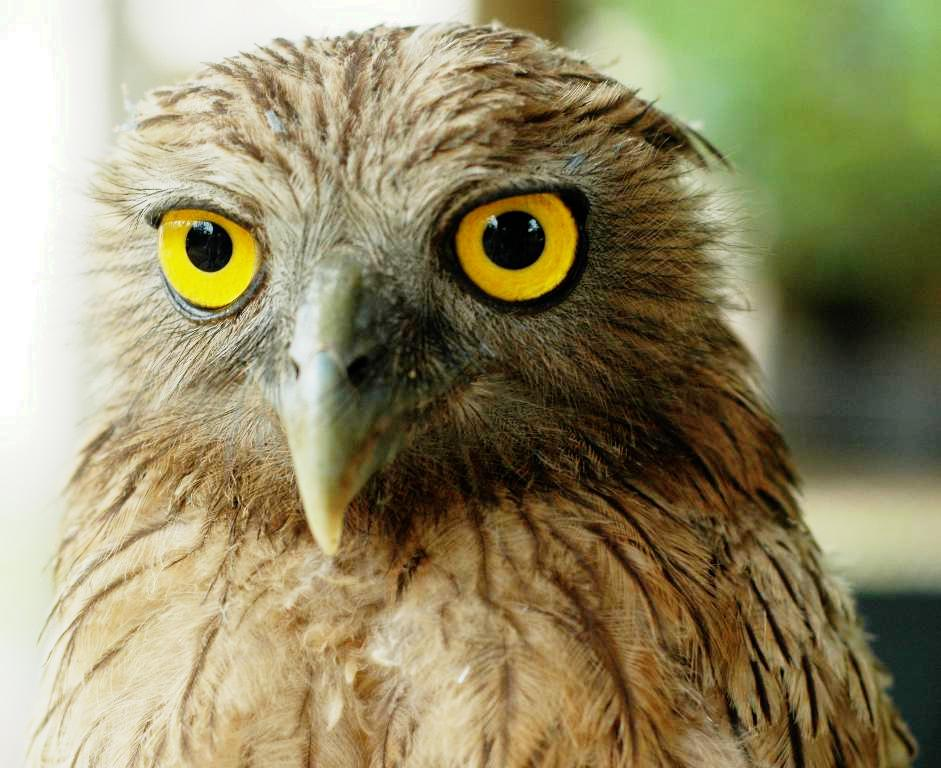Owl: (20, 19, 904, 768)
